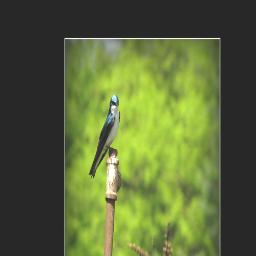Swallow: (89, 93, 121, 181)
